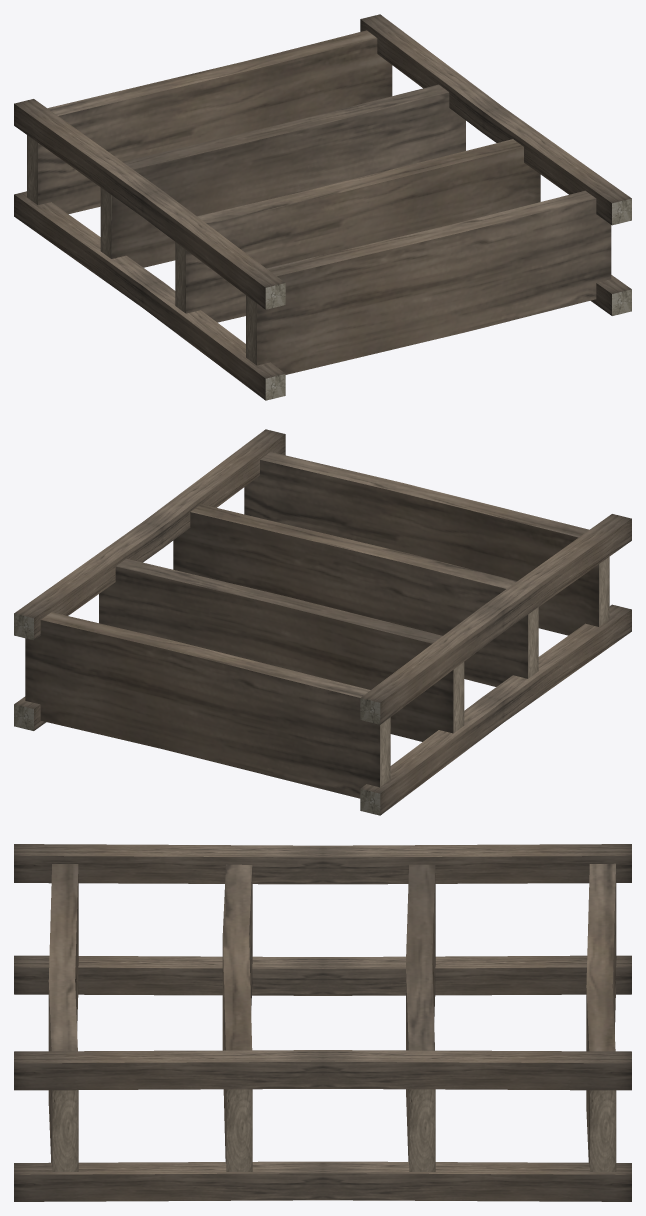
Rendered from Shelf_A.fbx.
The picture shows the model from 3 angles, top to bottom: view 1: azimuth 30°, elevation 25°; view 2: azimuth 150°, elevation 25°; view 3: azimuth 270°, elevation 25°; orthographic projection. The views are drawn at different scales.
Parts seen in each view (by area): view 1: Shelf_A; view 2: Shelf_A; view 3: Shelf_A.
Boxes of the visible parts, x1=… form: Shelf_A: x1=14, y1=14, x2=631, y2=400; Shelf_A: x1=14, y1=429, x2=631, y2=815; Shelf_A: x1=14, y1=844, x2=631, y2=1201.
Bounding box in the file's own units: 3.37 × 0.9931 × 4.01.
